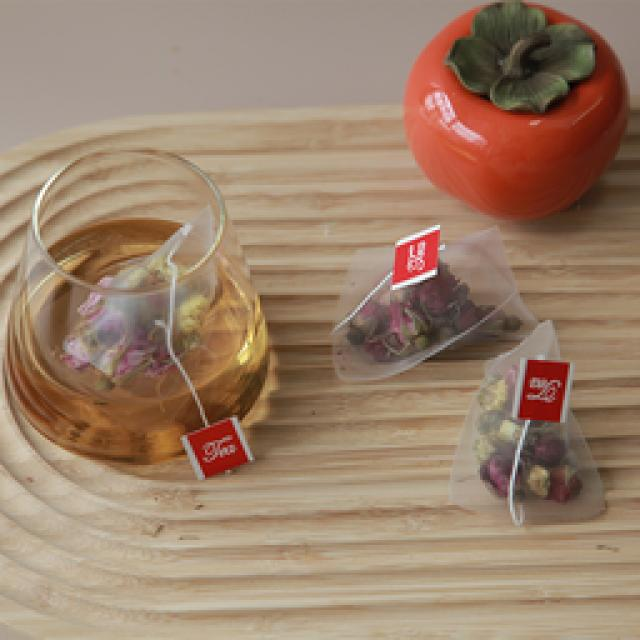tea-bags: (332, 225, 602, 522), (62, 210, 219, 378)
